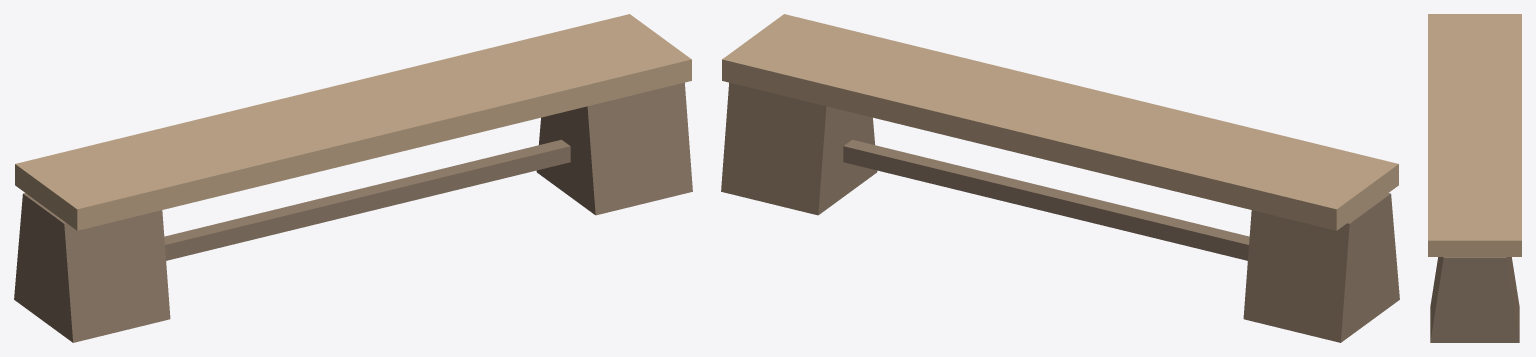
The model's file is martial-arts-dojo-and-fight-stages-dojo-bench-812ae702__18069.glb.
3 views of the same model, side by side, from view 1: azimuth 30°, elevation 25°; view 2: azimuth 150°, elevation 25°; view 3: azimuth 270°, elevation 25° (orthographic). The views are drawn at different scales.
Parts seen in each view (by area): view 1: dojo-bench; view 2: dojo-bench; view 3: dojo-bench.
Boxes of the visible parts, box(x1,y1,x2,y2) form: dojo-bench: box(14, 14, 692, 342); dojo-bench: box(721, 14, 1399, 342); dojo-bench: box(1428, 14, 1521, 342).
Size of the model in its own units: 2.42 by 0.5 by 0.4198.
